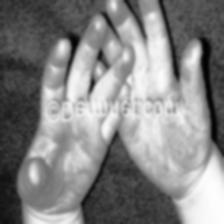Toxin: (43, 150, 54, 195), (117, 52, 133, 80), (86, 20, 102, 46), (177, 116, 189, 130), (181, 80, 189, 98)
